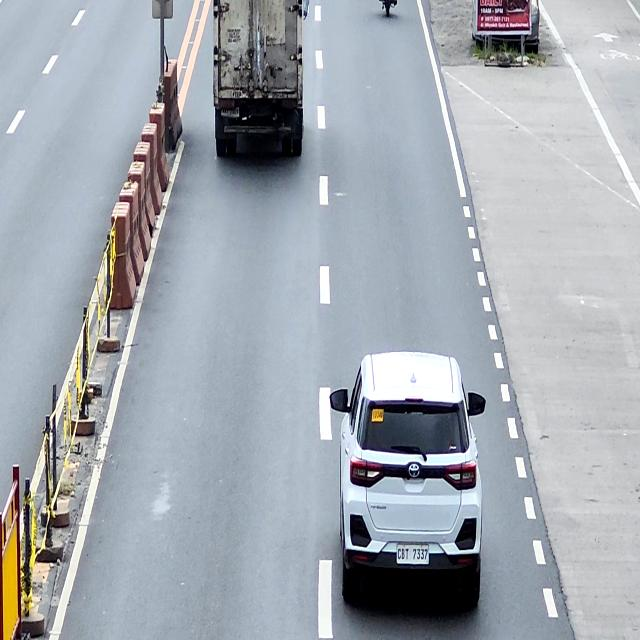Car: (329, 352, 485, 610)
License-Plate: (397, 544, 429, 564), (220, 106, 239, 117)
Truck: (212, 0, 310, 158)
